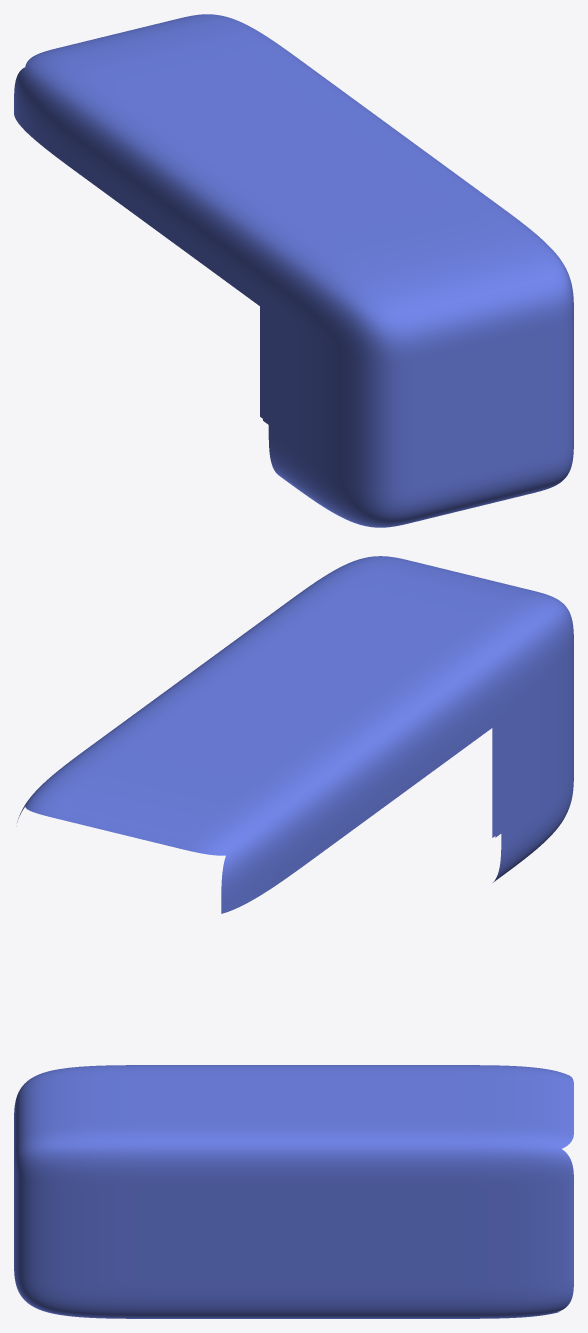
Rendered from 01_vertex_count_16bit.gltf.
3 views of the same model, one above another, from view 1: azimuth 30°, elevation 25°; view 2: azimuth 150°, elevation 25°; view 3: azimuth 270°, elevation 25° (orthographic). The views are drawn at different scales.
Parts seen in each view (by area): view 1: Cube; view 2: Cube; view 3: Cube.
Part boxes in pixels (x1=…): Cube: x1=14, y1=14, x2=573, y2=527; Cube: x1=17, y1=556, x2=573, y2=913; Cube: x1=14, y1=1065, x2=573, y2=1318.
Bounding box in the file's own units: 2 × 2 × 5.43.
